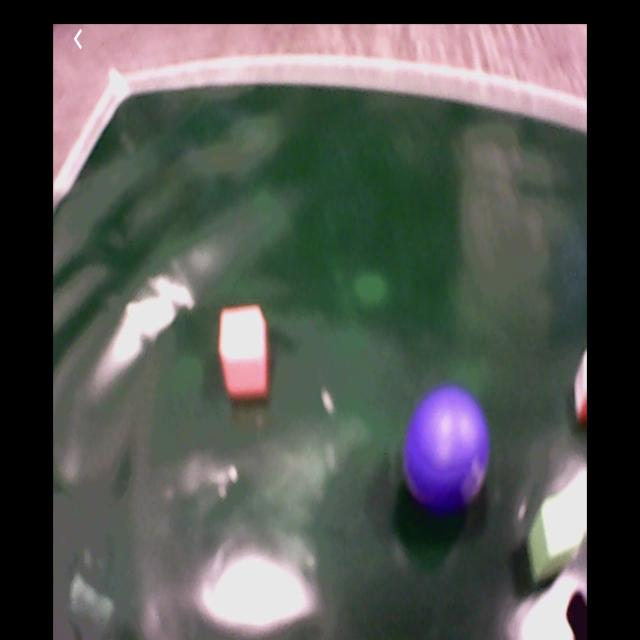ball: (405, 387, 489, 509)
